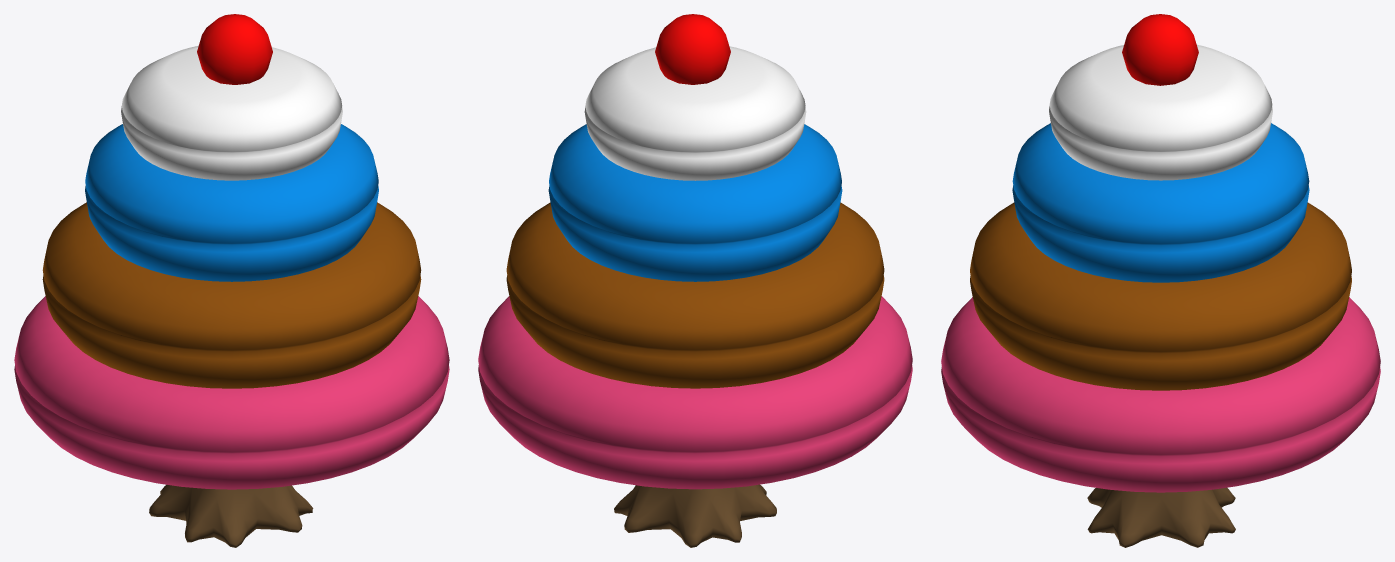
The picture shows the model from 3 angles, left to right: view 1: azimuth 30°, elevation 25°; view 2: azimuth 150°, elevation 25°; view 3: azimuth 270°, elevation 25°; orthographic projection.
Visible parts, largest first — view 1: Cube.002; view 2: Cube.002; view 3: Cube.002.
Part boxes in pixels (left/top/right/bottom): Cube.002: left=14, top=14, right=449, bottom=547; Cube.002: left=478, top=14, right=912, bottom=547; Cube.002: left=941, top=14, right=1380, bottom=547.
Bounding box in the file's own units: 0.9989 × 1.26 × 0.9989.
